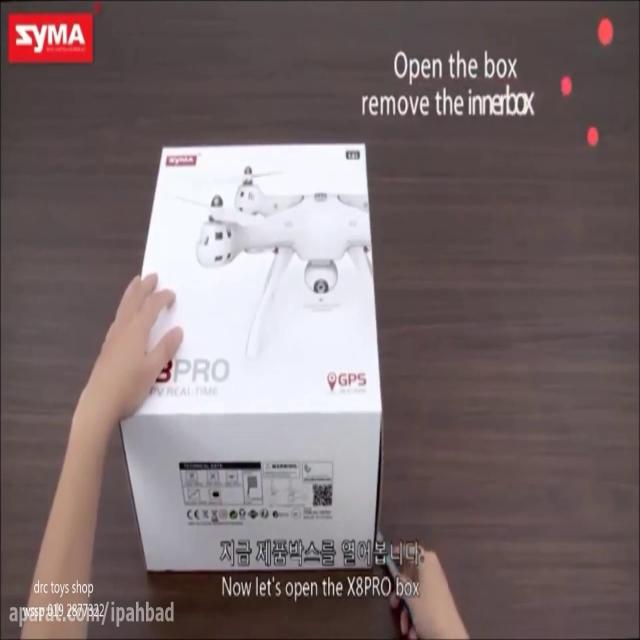drone: (185, 165, 375, 351)
